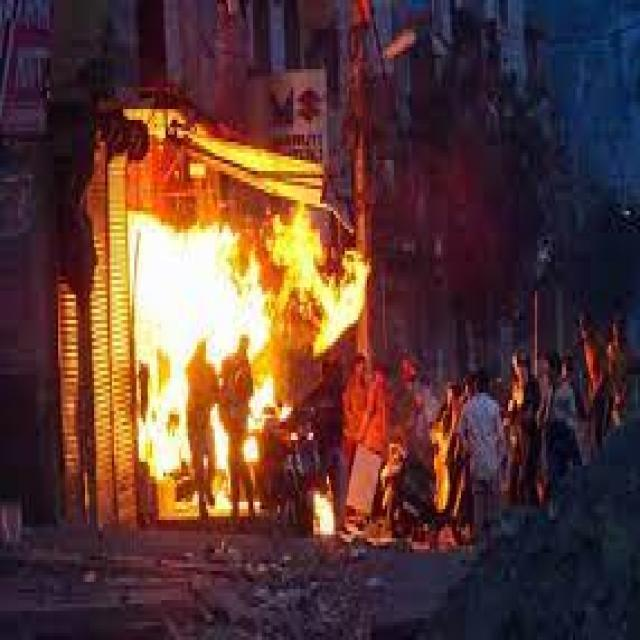Fire: (127, 177, 368, 536), (432, 422, 455, 514)
Smoke: (412, 128, 504, 300), (41, 80, 101, 290), (104, 58, 150, 160)
